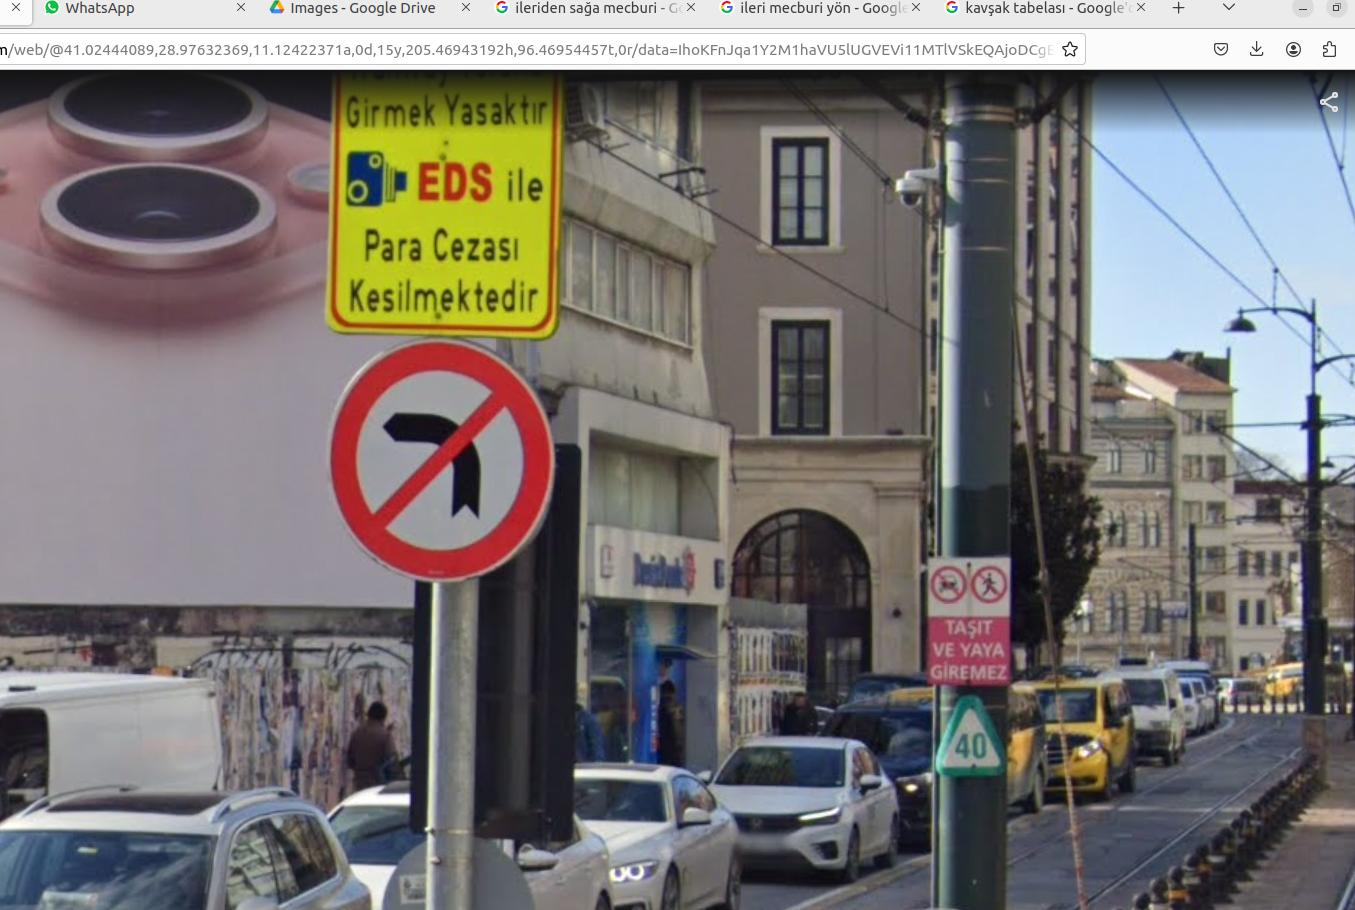leftturnsareforbidden: (349, 355, 551, 561)
